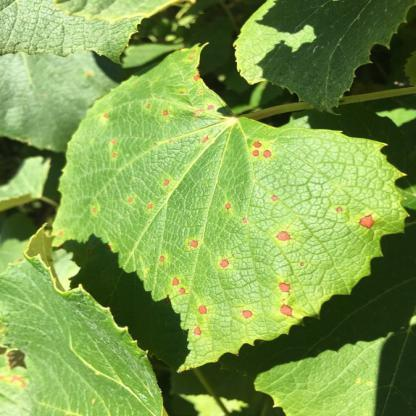grape leaf: (55, 44, 412, 374)
